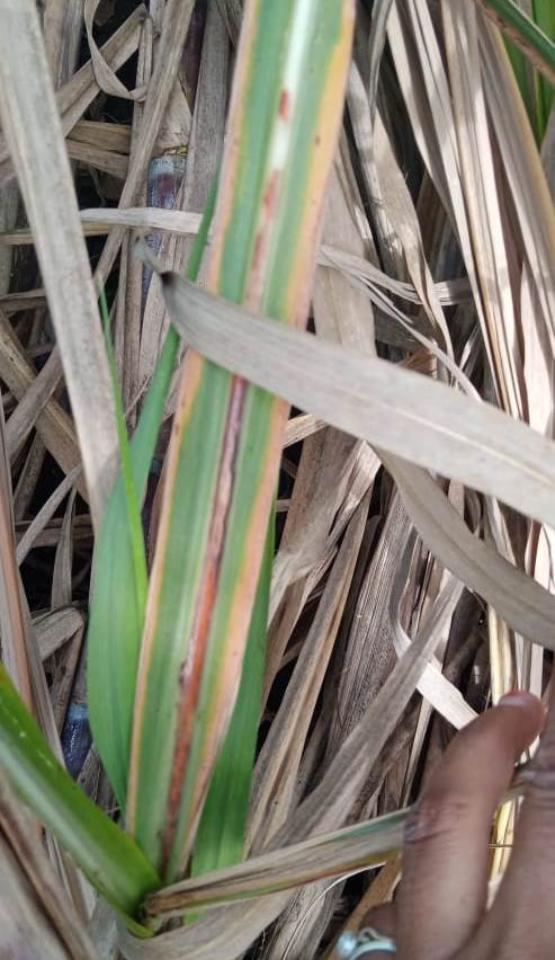RedRot: (157, 373, 250, 881), (241, 165, 285, 311), (275, 87, 293, 127)
